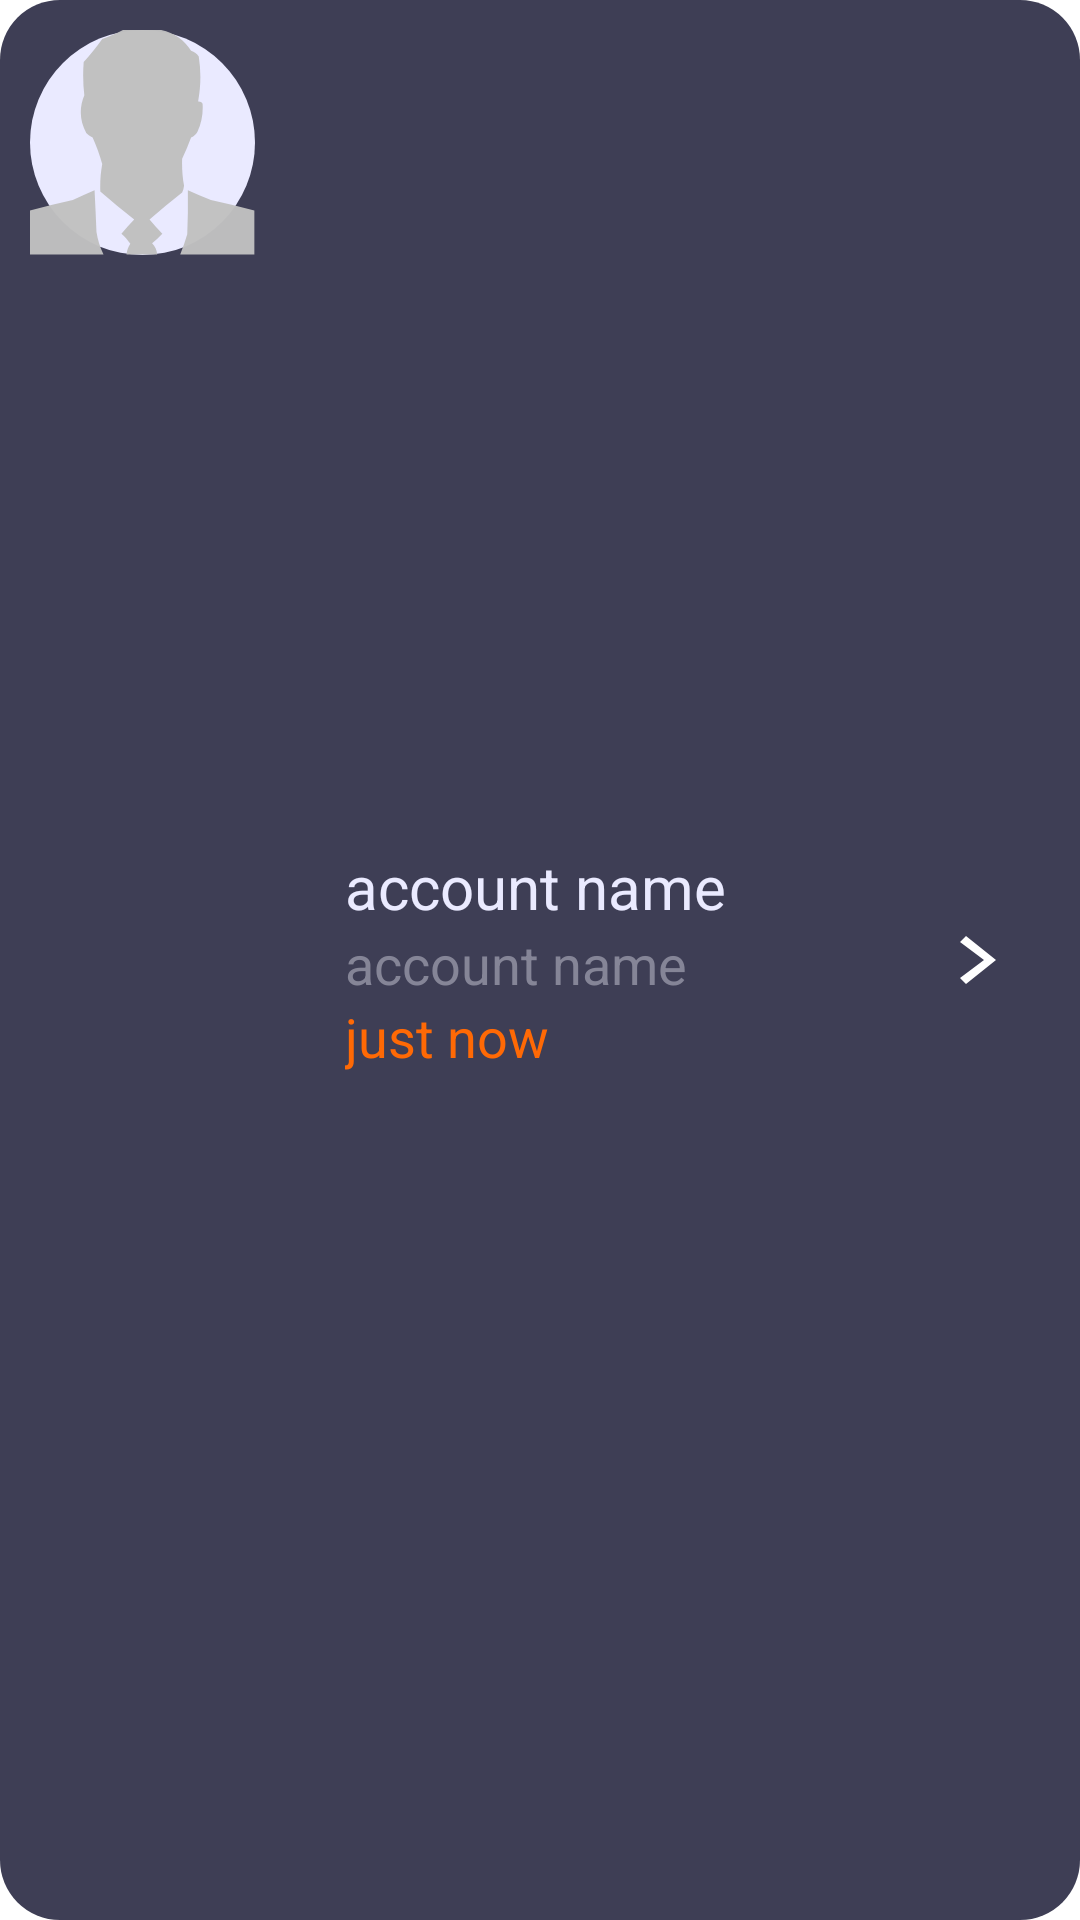

Icon bounding boxes for this 1080×1920 phone screenshot, format (x1, y1, x2, y2):
aa arrow right: (960, 936, 996, 984)
profile: (30, 30, 255, 255)
